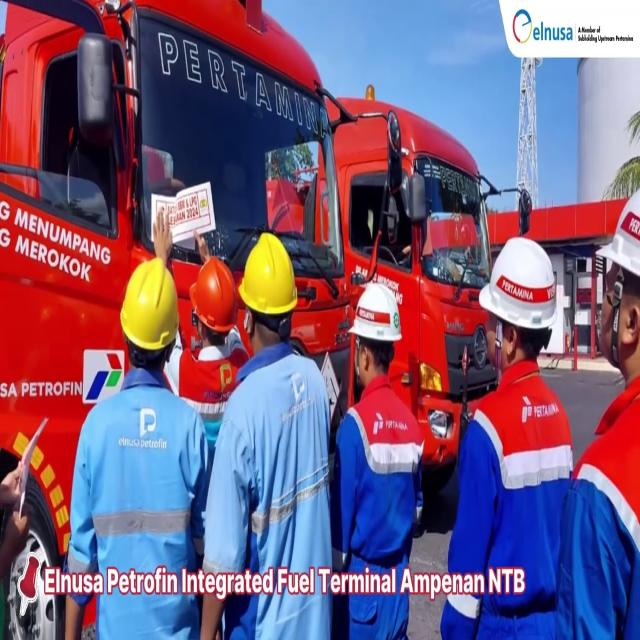Hardhat: (479, 240, 558, 326), (120, 258, 180, 349), (594, 179, 640, 283), (238, 236, 298, 310), (189, 260, 239, 332), (348, 287, 399, 339)
No Glove: (0, 510, 37, 594), (197, 593, 223, 640), (0, 462, 27, 504), (60, 595, 84, 640), (153, 213, 171, 258), (194, 234, 214, 260)
Overall Suit: (440, 358, 573, 640), (331, 374, 420, 640), (555, 378, 640, 640)
Strapped: (611, 268, 622, 352), (492, 315, 504, 362), (354, 335, 362, 375)
